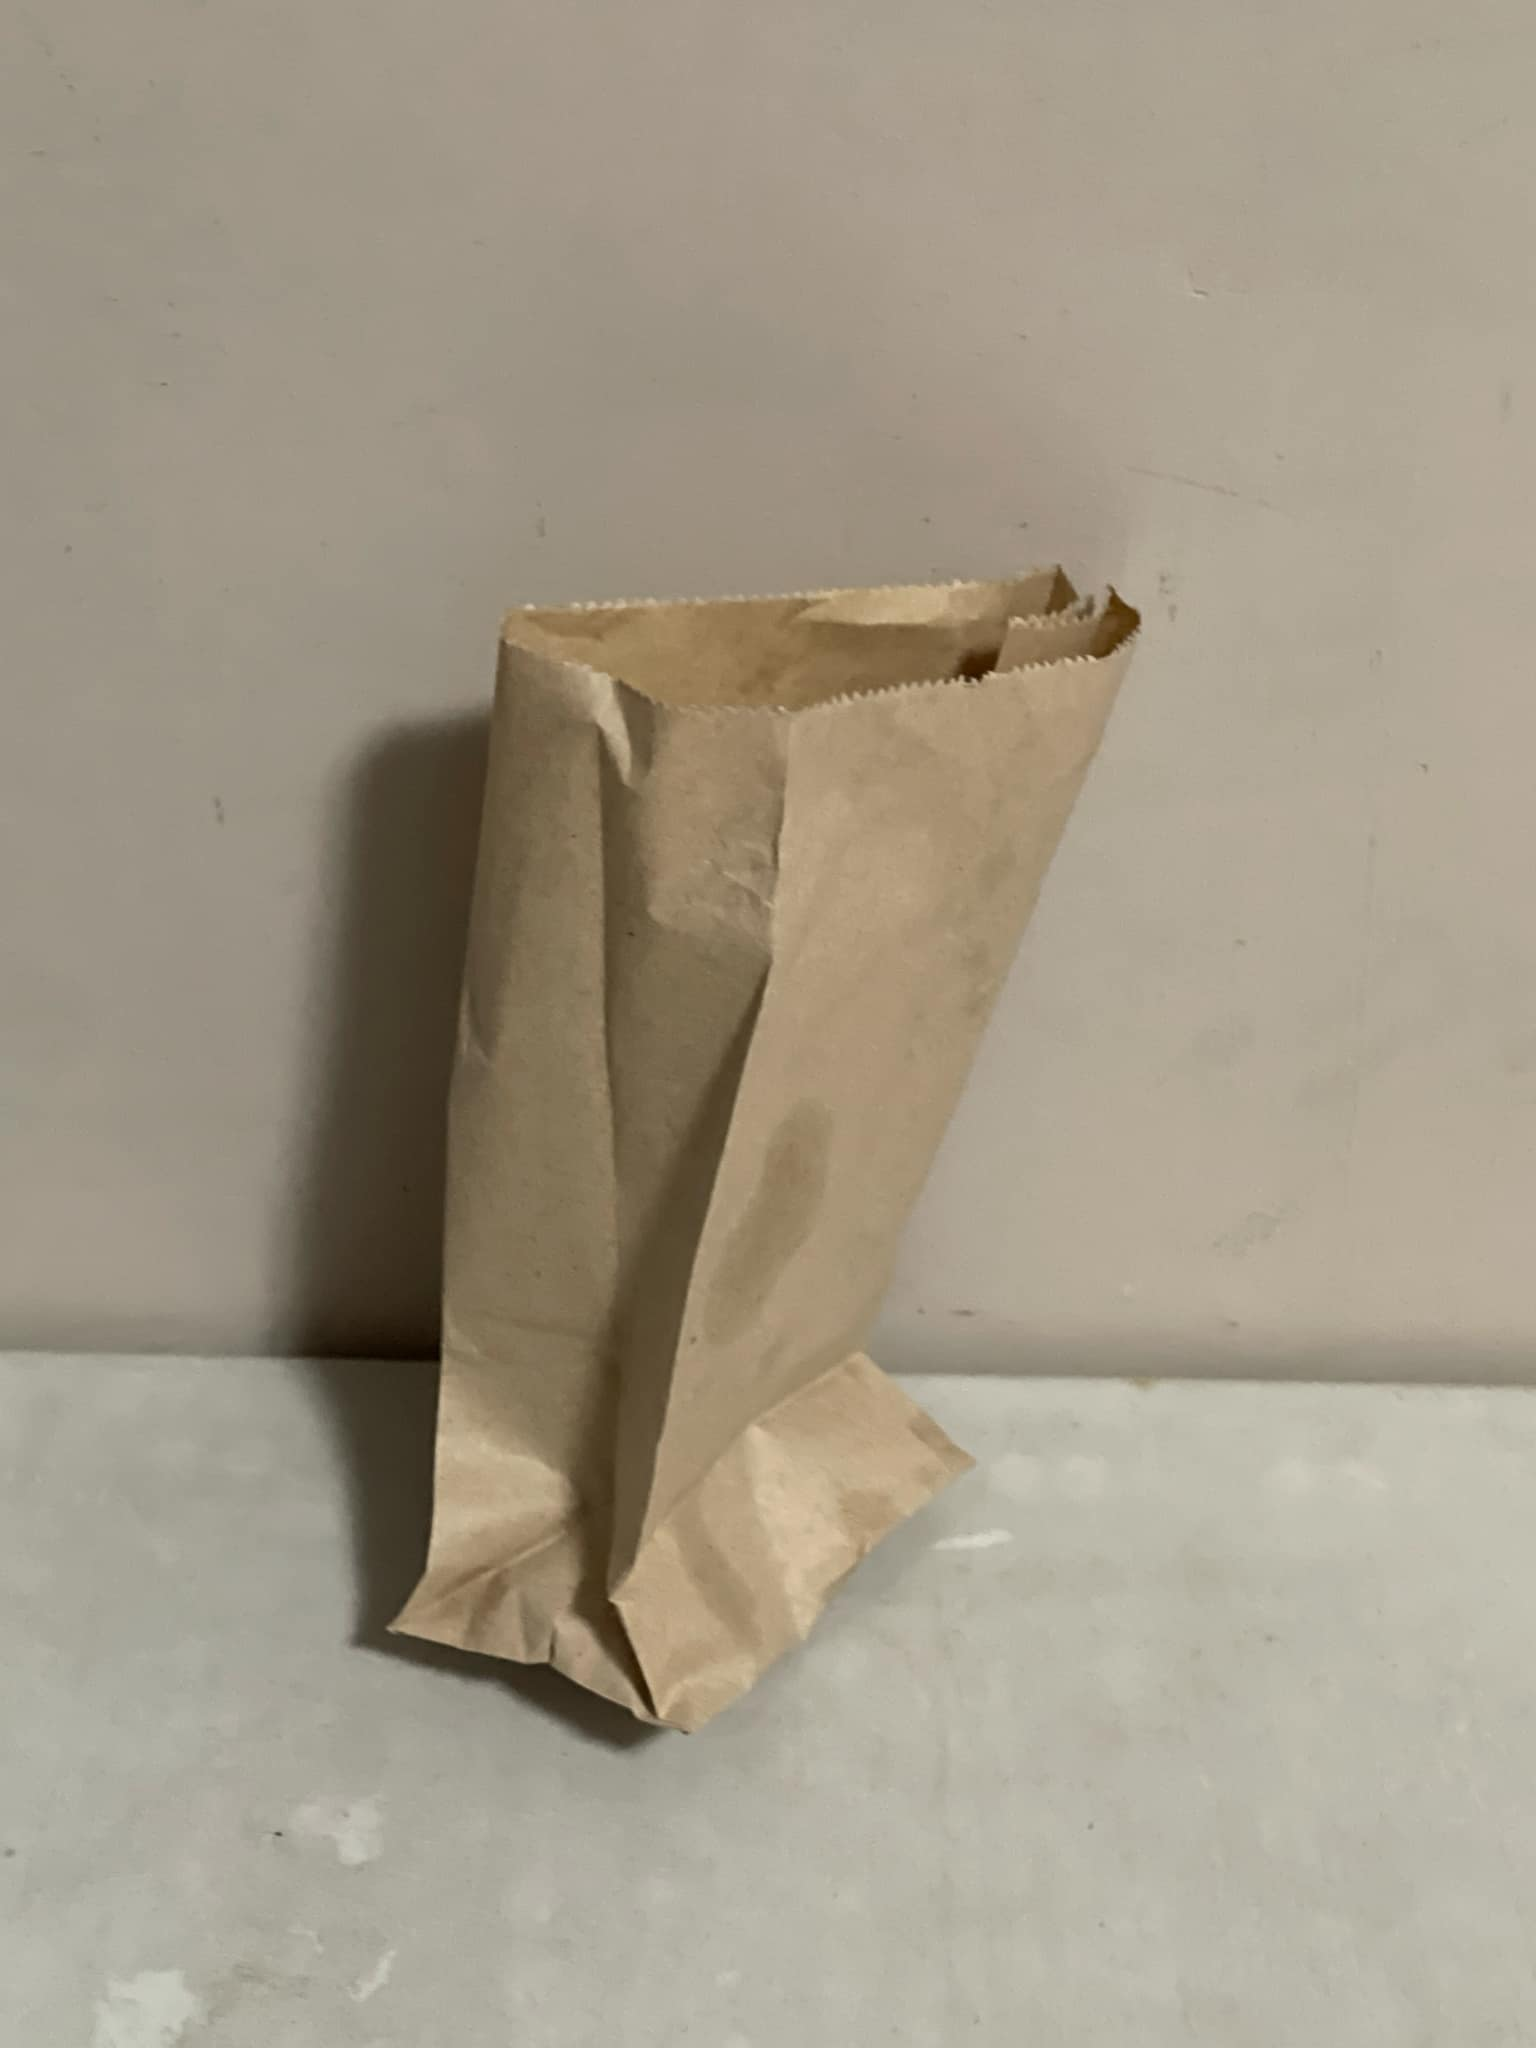Paper Food Packages: (371, 548, 1163, 1751)
